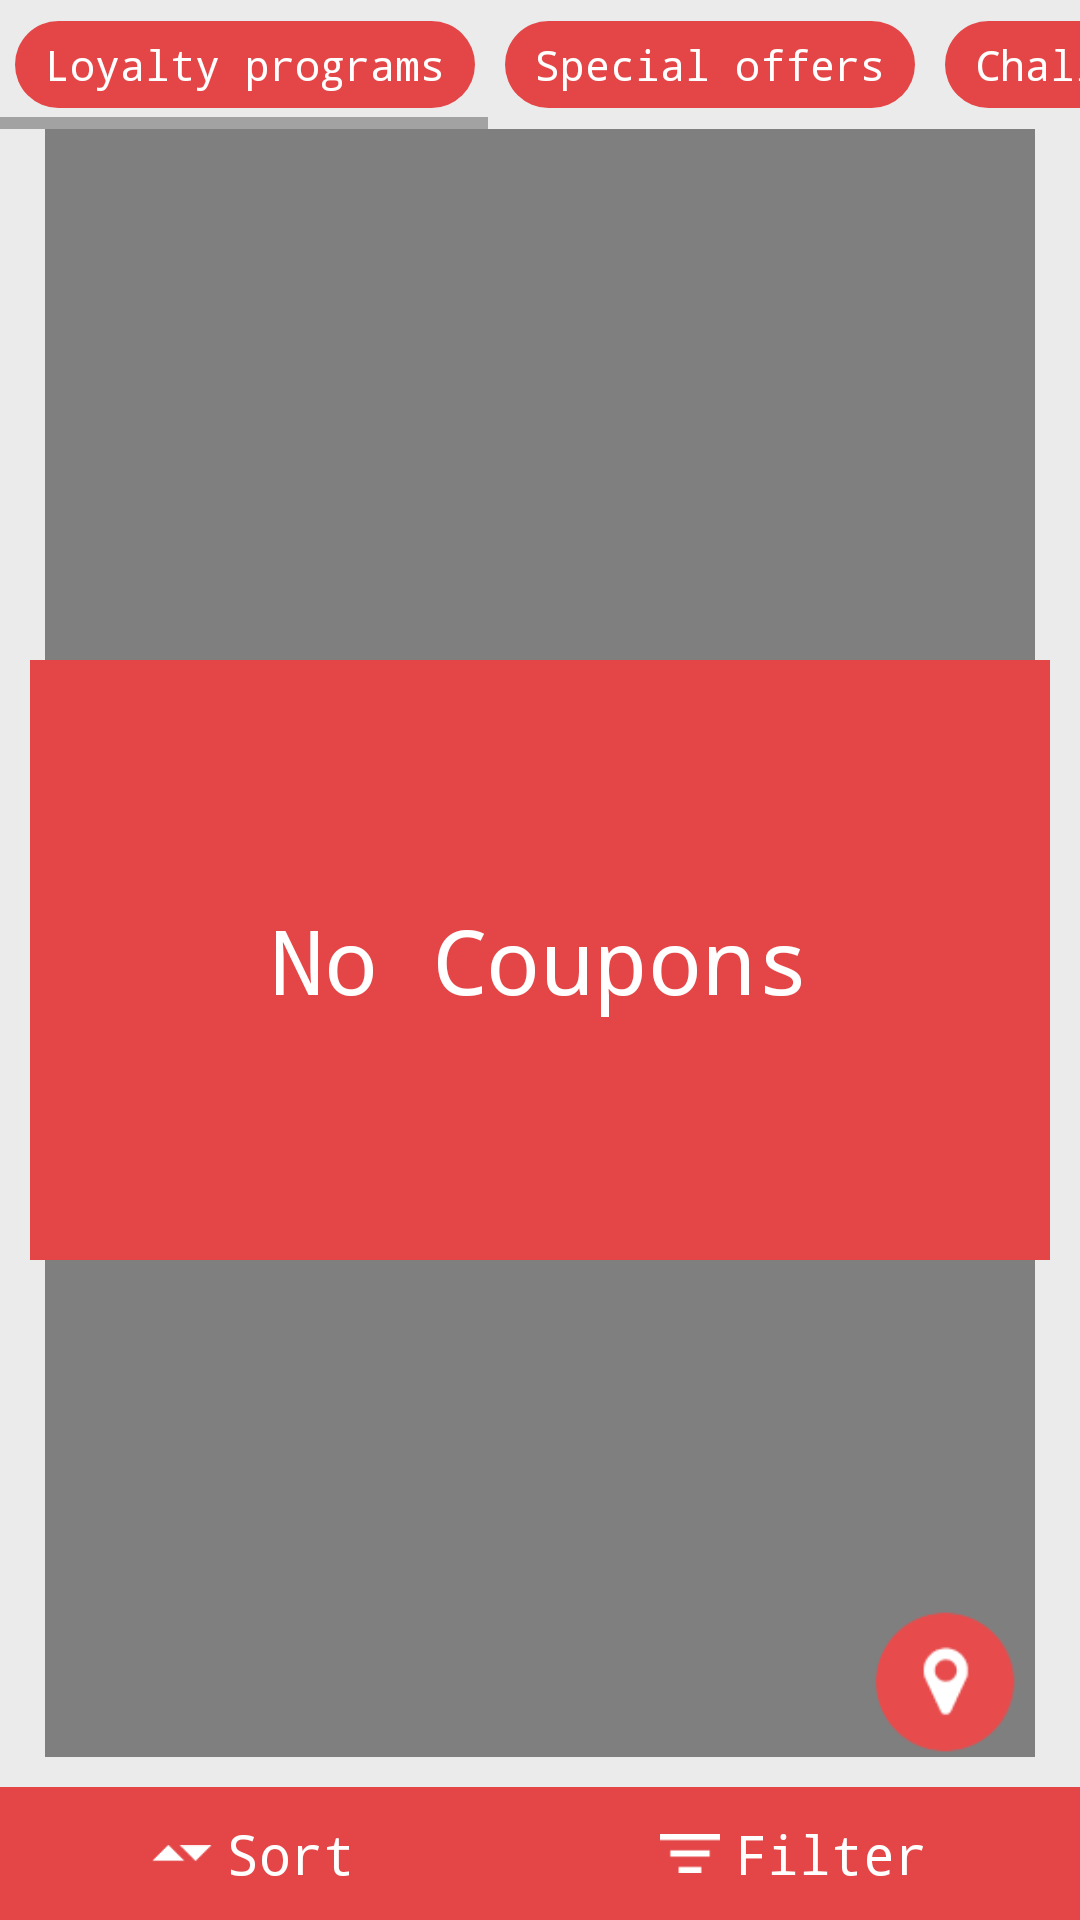

Icons on this 1080×1920 Android screen, each with the point to tap as [x,y]:
marker: [945,1682]
